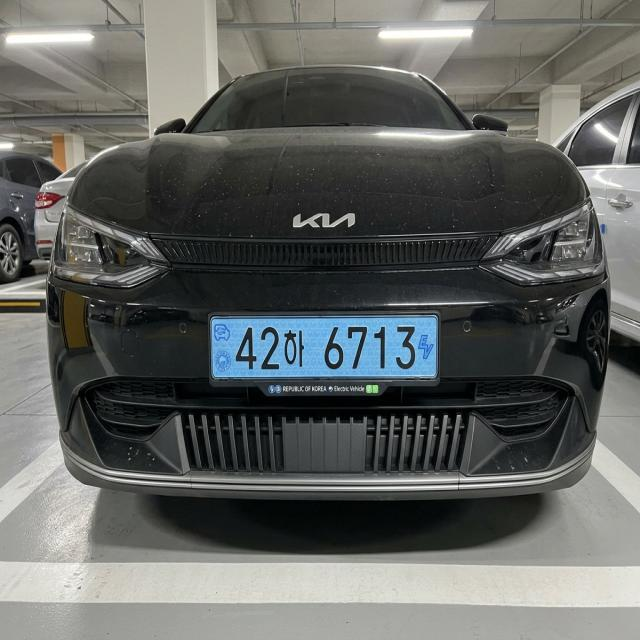car: (199, 299, 448, 411)
carev: (210, 317, 233, 382), (415, 314, 439, 376)
